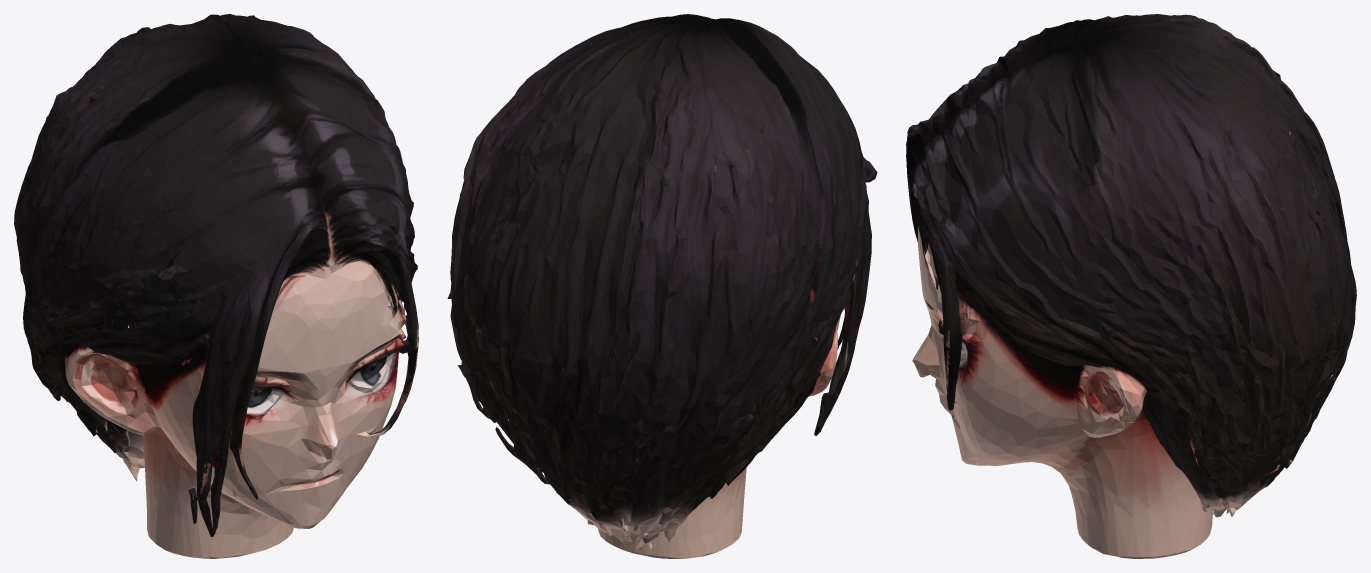
File: side_empress_repaired_atlas.glb
3 renders of one model, left to right at view 1: azimuth 30°, elevation 25°; view 2: azimuth 150°, elevation 25°; view 3: azimuth 270°, elevation 25°, orthographic.
Parts seen in each view (by area): view 1: temp_mesh.ply; view 2: temp_mesh.ply; view 3: temp_mesh.ply.
Boxes of the visible parts, x1,y1,x2,y2 form: temp_mesh.ply: (14,14,418,558); temp_mesh.ply: (447,14,877,558); temp_mesh.ply: (906,14,1356,558).
Size of the model in its own units: 1.12 by 1.58 by 1.29.
Materials: 1 (1 with a texture image).
